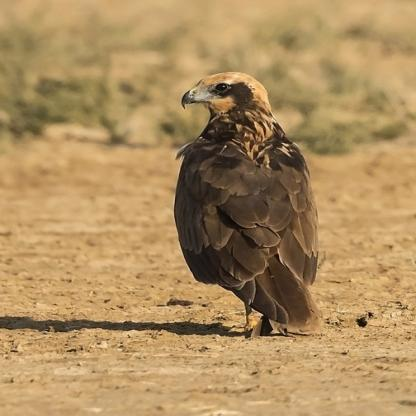Burung: (167, 70, 322, 334)
